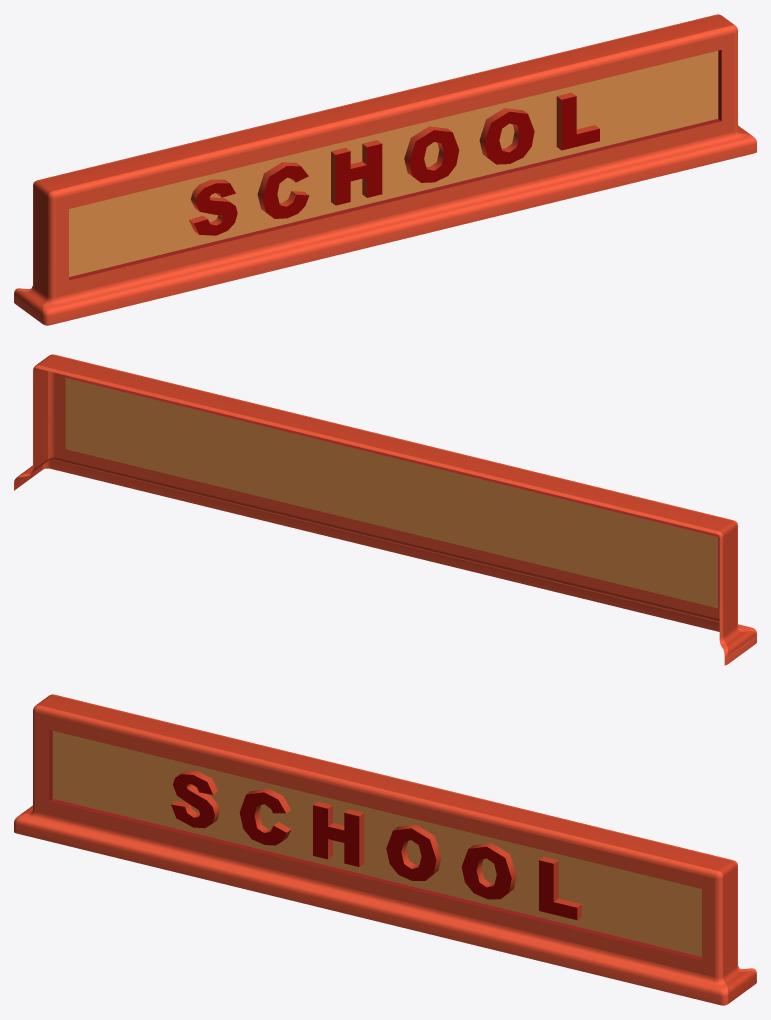
File: Mian Board.fbx
3 views of the same model, one above another, from view 1: azimuth 30°, elevation 25°; view 2: azimuth 150°, elevation 25°; view 3: azimuth 330°, elevation 25° (orthographic).
Parts seen in each view (by area): view 1: Mian Board; view 2: Mian Board; view 3: Mian Board.
Boxes of the visible parts, x1=… form: Mian Board: x1=14, y1=14, x2=756, y2=325; Mian Board: x1=14, y1=354, x2=756, y2=665; Mian Board: x1=14, y1=694, x2=756, y2=1005.
Bounding box in the file's own units: 69.92 × 11.61 × 5.61.
